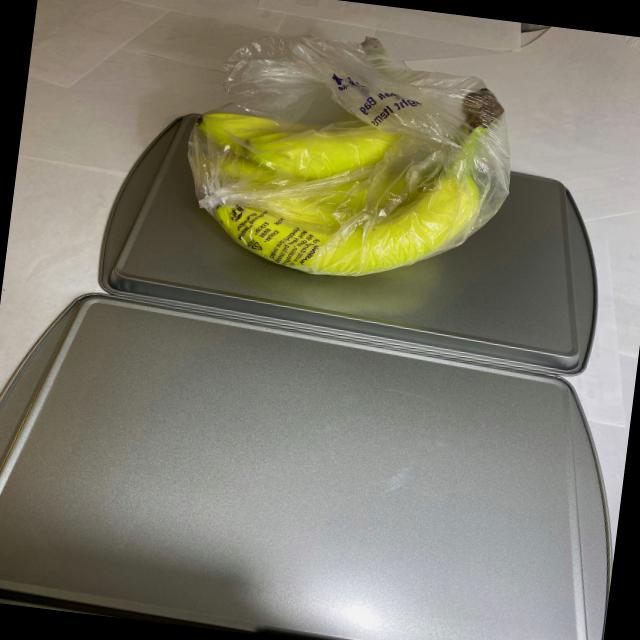banana: (164, 31, 516, 296)
